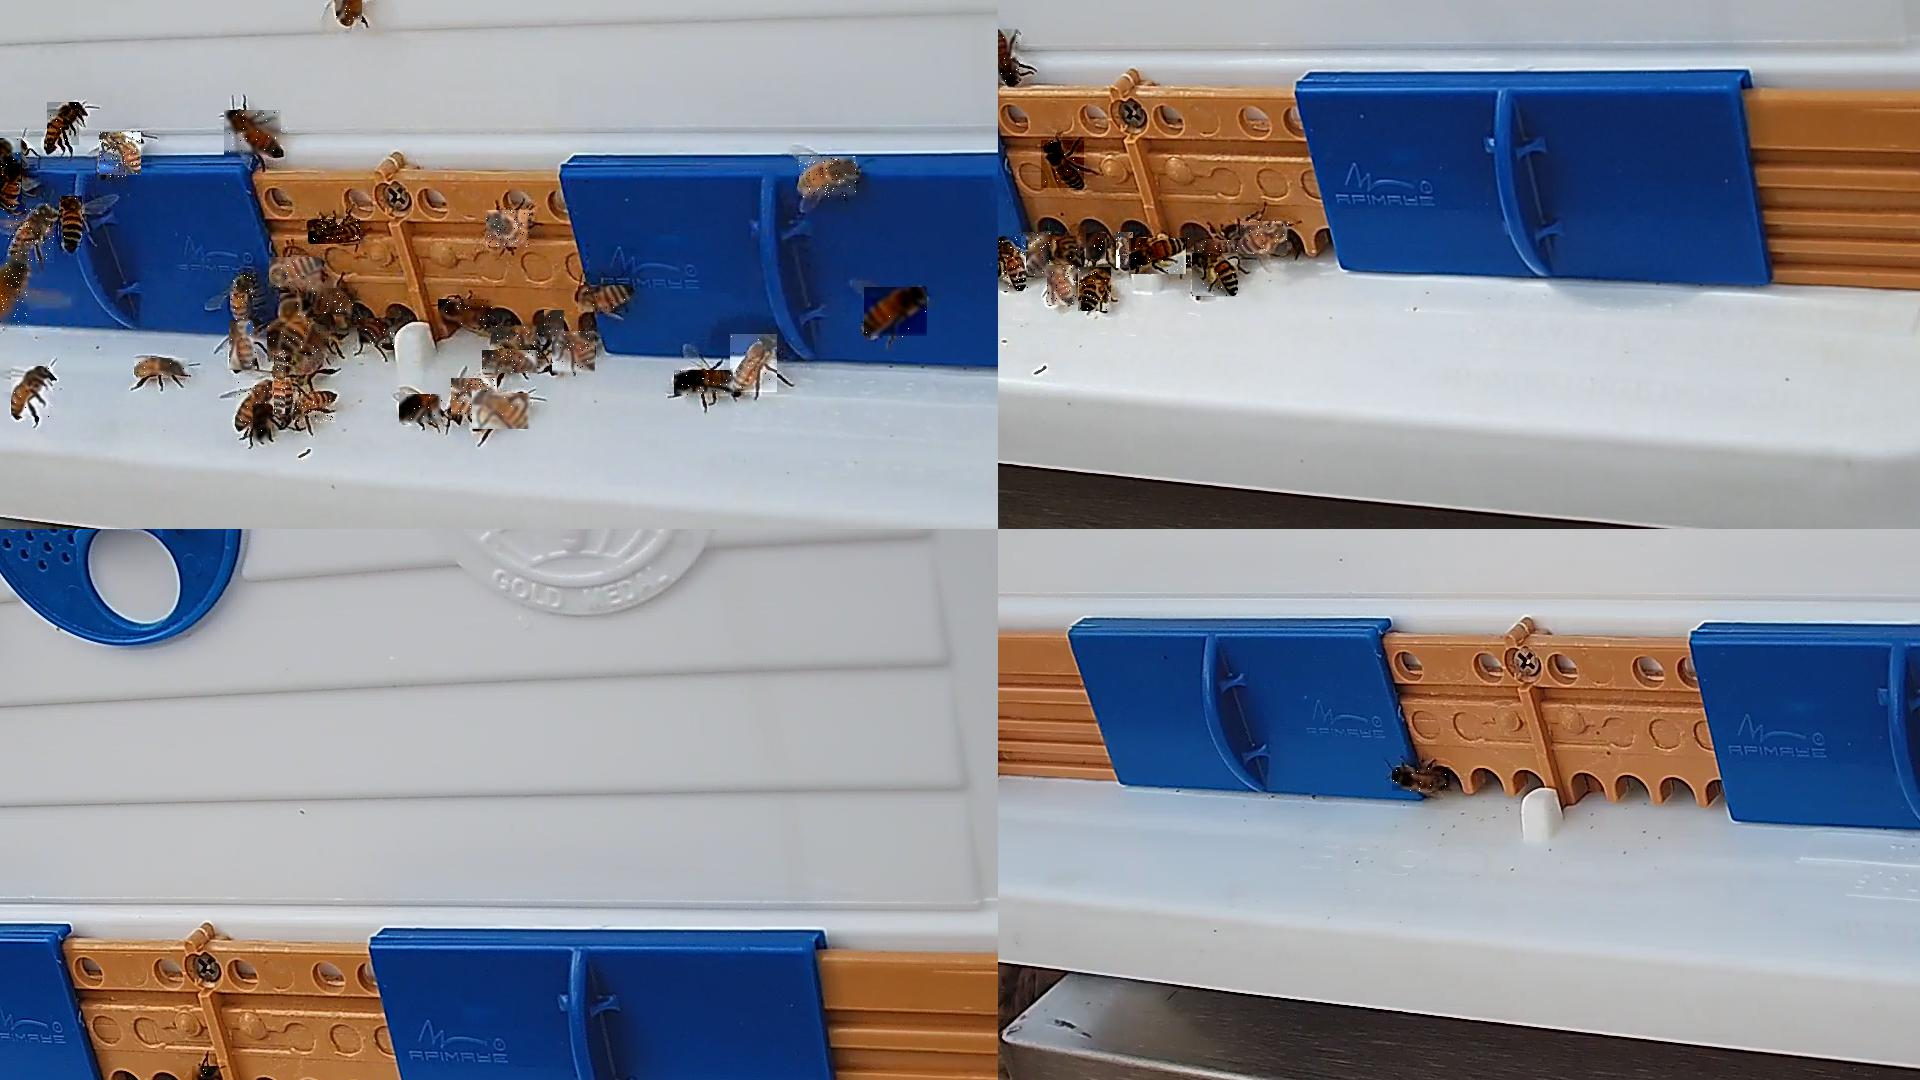bee: (865, 287, 928, 339), (7, 203, 55, 264), (731, 335, 778, 396), (225, 111, 284, 158), (799, 157, 857, 199), (280, 294, 314, 361), (473, 393, 533, 430), (12, 367, 53, 419), (0, 256, 29, 330), (1042, 140, 1085, 189), (99, 133, 142, 179), (451, 378, 498, 419), (553, 332, 596, 376), (268, 326, 330, 356), (236, 380, 273, 430), (998, 236, 1031, 291), (270, 258, 324, 291), (487, 210, 531, 248), (1241, 222, 1292, 255), (47, 103, 83, 149), (674, 371, 735, 397), (1077, 268, 1112, 313), (290, 393, 338, 425), (439, 299, 493, 327), (578, 286, 634, 313), (1393, 767, 1452, 793), (309, 219, 364, 245), (483, 349, 541, 375), (303, 289, 357, 315), (0, 162, 26, 214), (229, 274, 255, 328), (400, 396, 443, 426), (229, 323, 257, 371), (998, 29, 1022, 84), (1025, 232, 1052, 277), (1048, 265, 1079, 306), (0, 138, 26, 185), (59, 196, 83, 247), (357, 319, 396, 348), (492, 327, 541, 348), (135, 359, 193, 376), (274, 353, 290, 415), (1195, 240, 1244, 255), (1116, 232, 1134, 269), (255, 405, 272, 444), (545, 311, 566, 343), (335, 0, 364, 22), (1087, 233, 1106, 260), (193, 1065, 220, 1079)
pollenbee: (1192, 253, 1240, 301), (1130, 239, 1191, 276), (1047, 237, 1081, 265)
